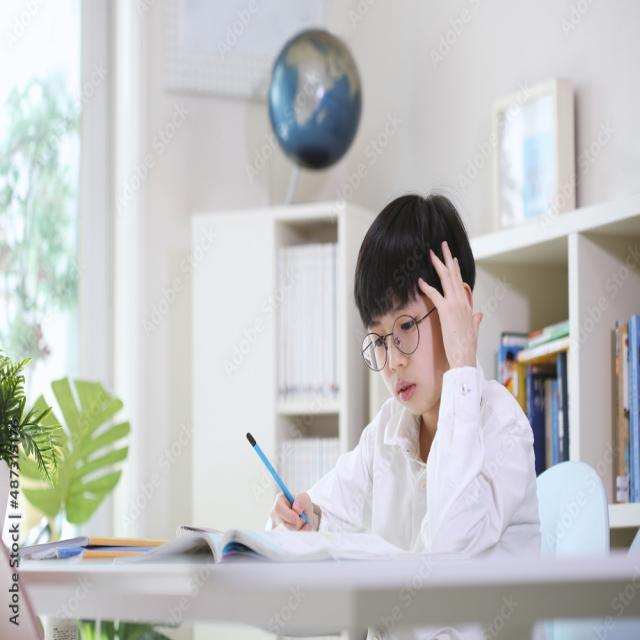studying-person: (83, 182, 550, 564)
